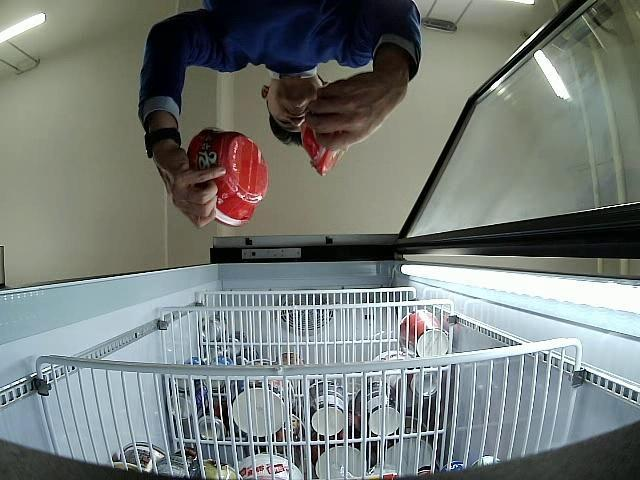10_wangTtukkeong: (186, 129, 268, 226), (301, 78, 361, 176)
